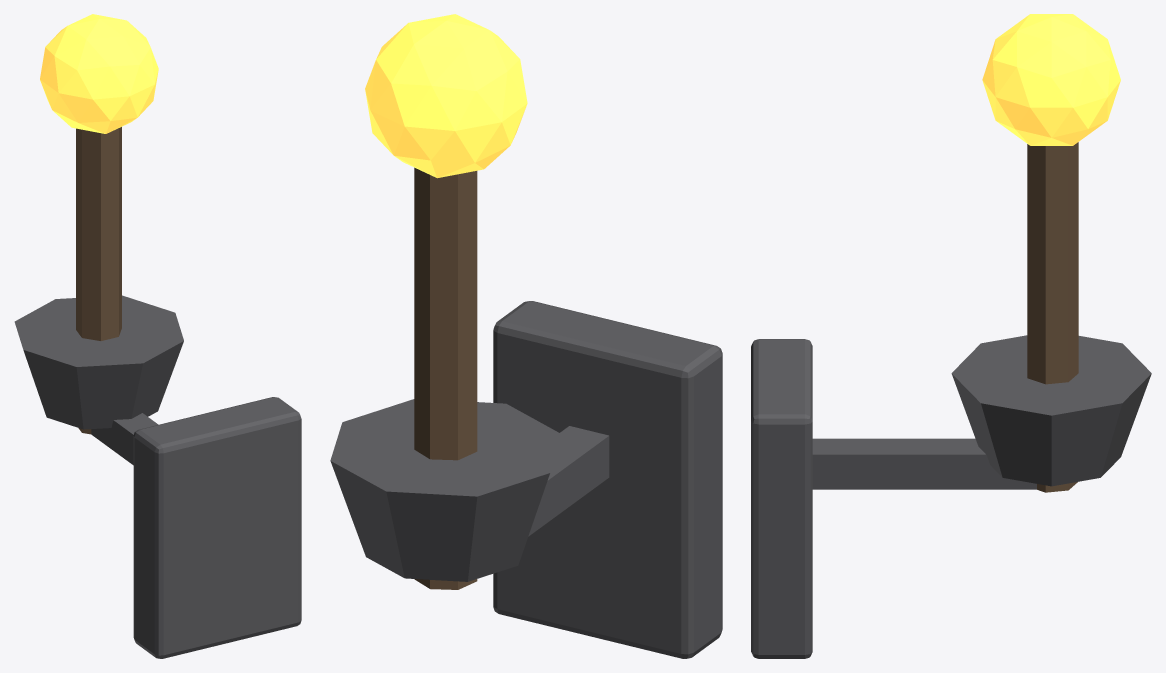
Rendered from torch_sconce.glb.
The picture shows the model from 3 angles, left to right: view 1: azimuth 30°, elevation 25°; view 2: azimuth 150°, elevation 25°; view 3: azimuth 270°, elevation 25°; orthographic projection. The views are drawn at different scales.
Visible parts, largest first — view 1: Cube, Cone, Icosphere, Cone.001, Cube.001; view 2: Cube, Cone, Icosphere, Cone.001, Cube.001; view 3: Cone, Cube, Icosphere, Cone.001, Cube.001.
Part boxes in pixels (x1,y1,x2,y2): Cube: [133, 397, 301, 658]; Cone: [14, 295, 183, 429]; Icosphere: [40, 14, 158, 133]; Cone.001: [76, 127, 121, 434]; Cube.001: [91, 413, 158, 465]; Cube: [493, 301, 722, 658]; Cone: [330, 399, 561, 581]; Icosphere: [365, 14, 527, 178]; Cone.001: [414, 167, 477, 589]; Cube.001: [528, 426, 609, 536]; Cone: [951, 335, 1151, 486]; Cube: [751, 339, 812, 658]; Icosphere: [982, 14, 1120, 145]; Cone.001: [1027, 142, 1078, 492]; Cube.001: [812, 438, 1036, 489].
Size of the model in its own units: 0.26 by 0.865 by 0.52.
